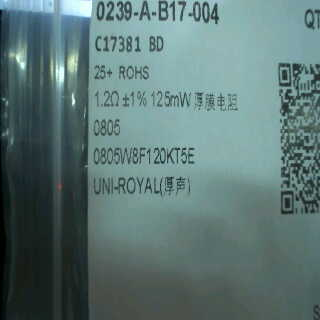1.2R: (93, 86, 126, 146)
